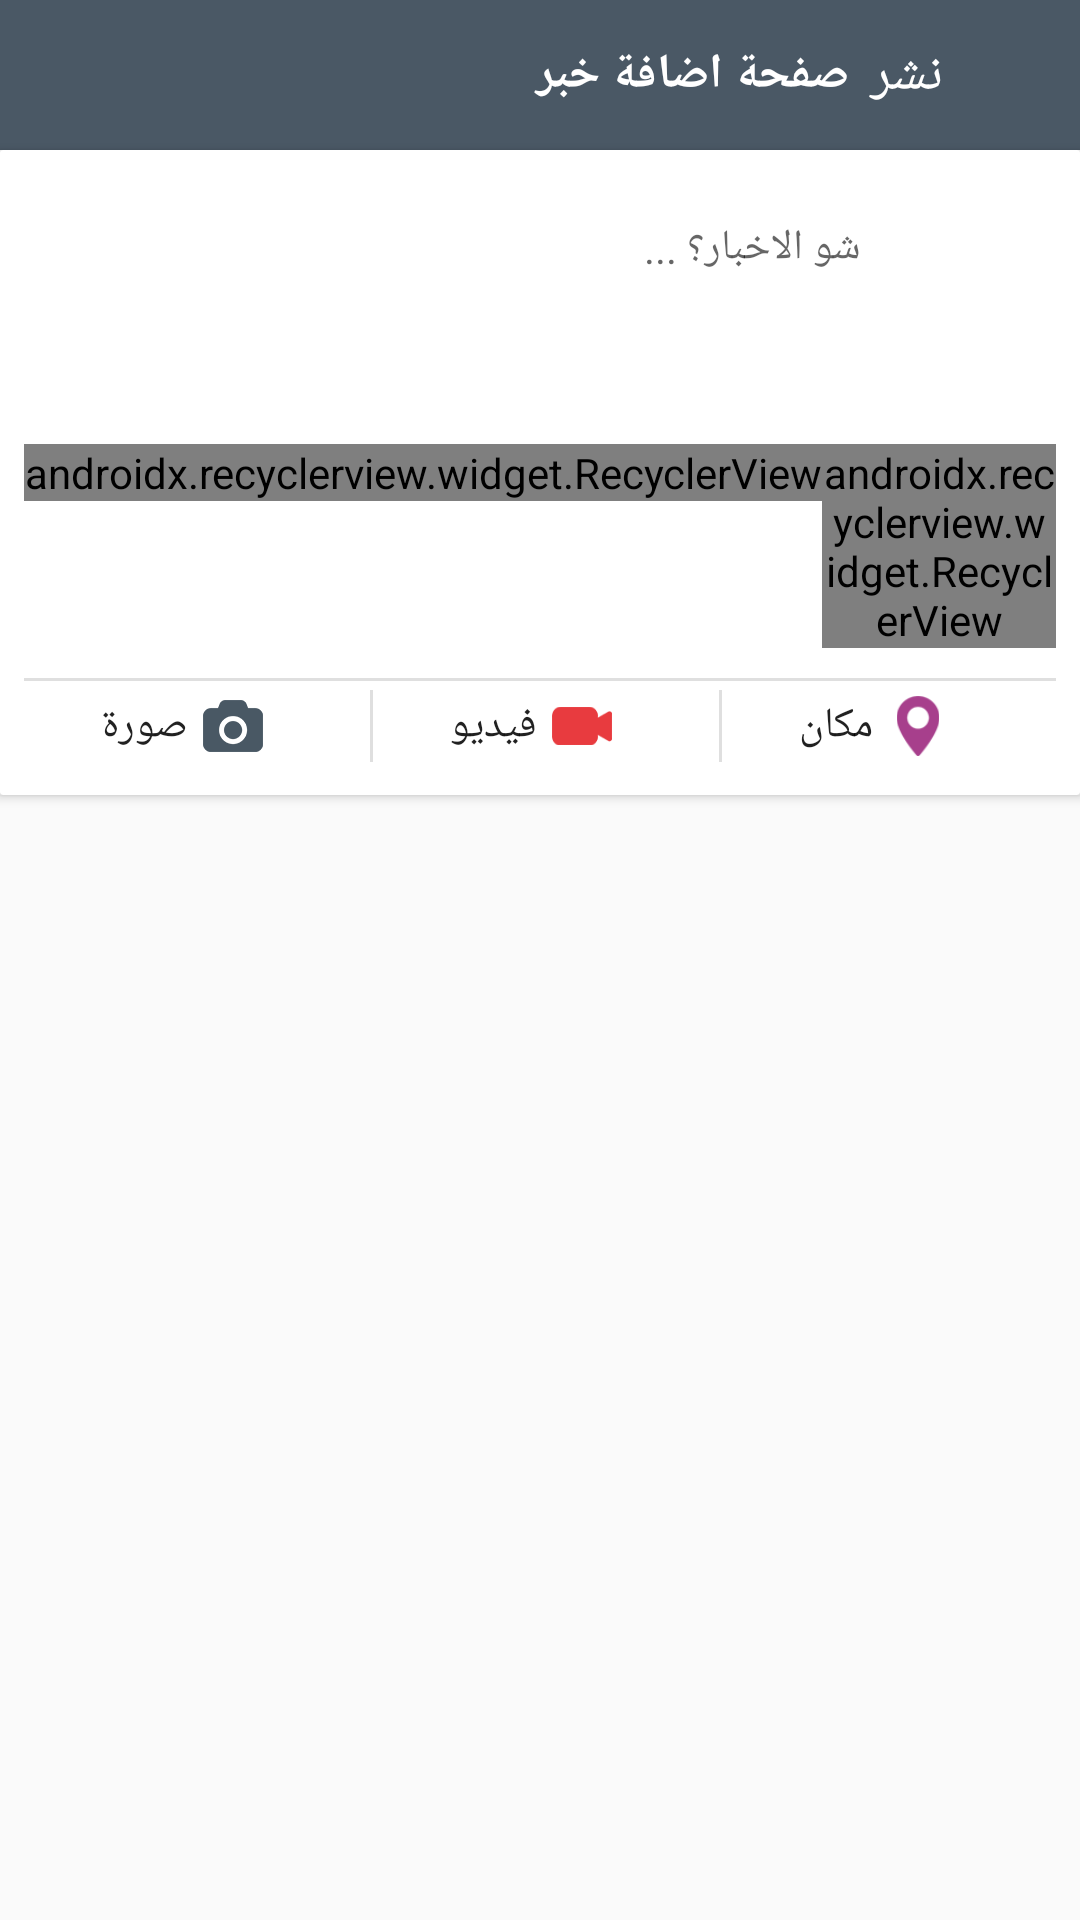

Icon bounding boxes for this 1080w x 1920h phone screenshot, format (x1, y1, x2, y2):
check in: (897, 696, 939, 756)
upload video: (552, 707, 612, 745)
